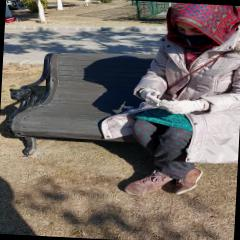gloved: (138, 87, 170, 110), (162, 100, 204, 116)
